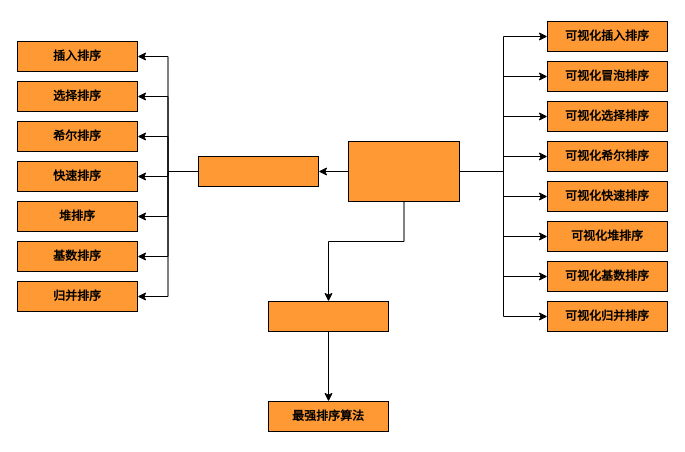
The diagram is 685 pixels wide and 452 high, and some of its shapes have lost their labels. The centre of each missing label's shape, as x and y in pixels:
"主窗体" belongs at point 404,171.
"其他排序c" belongs at point 258,171.
"最强排序窗体" belongs at point 328,316.
